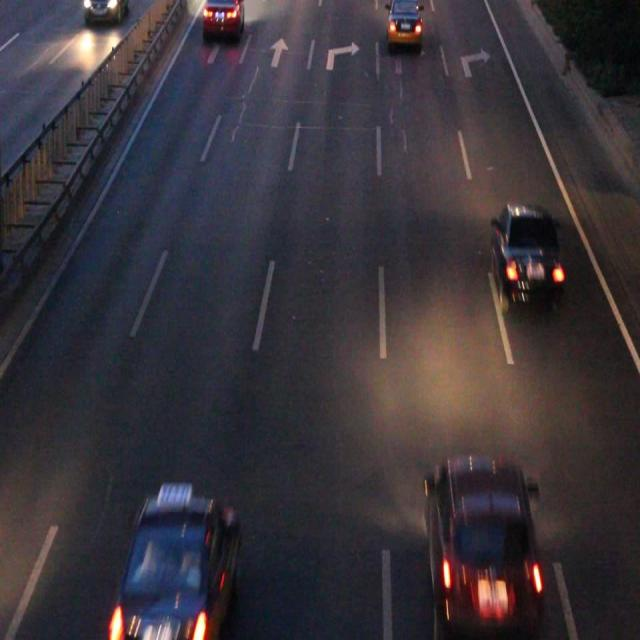car: (114, 496, 238, 640), (428, 460, 537, 622), (490, 206, 559, 304), (202, 1, 243, 39), (387, 1, 420, 45)
